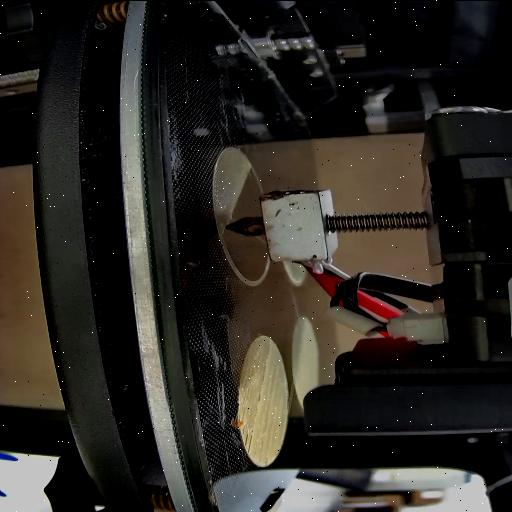under_extrusion: (256, 342, 274, 402), (242, 424, 256, 454), (261, 455, 273, 467)
